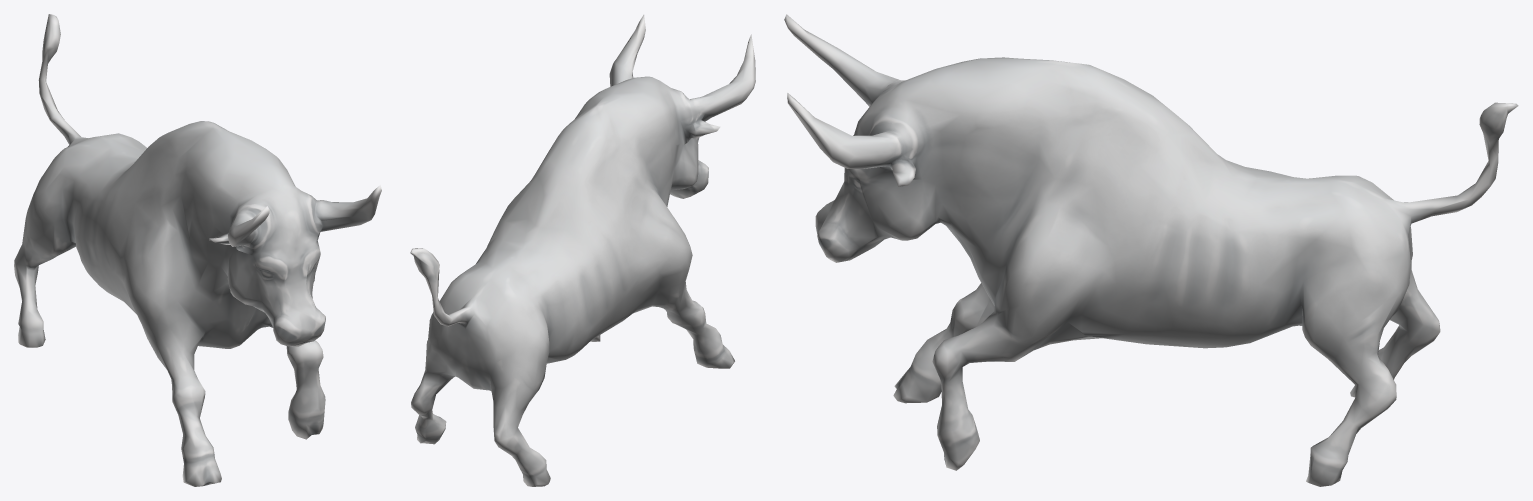
Rendered from ParkStatueBull01.FBX.
The picture shows the model from 3 angles, left to right: view 1: azimuth 30°, elevation 25°; view 2: azimuth 150°, elevation 25°; view 3: azimuth 270°, elevation 25°; orthographic projection. The views are drawn at different scales.
Parts seen in each view (by area): view 1: ParkStatueBull01; view 2: ParkStatueBull01; view 3: ParkStatueBull01.
Boxes of the visible parts, x1,y1,x2,y2 form: ParkStatueBull01: [14, 14, 381, 486]; ParkStatueBull01: [410, 14, 755, 486]; ParkStatueBull01: [784, 14, 1518, 486].
Size of what is drawn, in the model's own units: 1.63 by 2.79 by 4.75.
